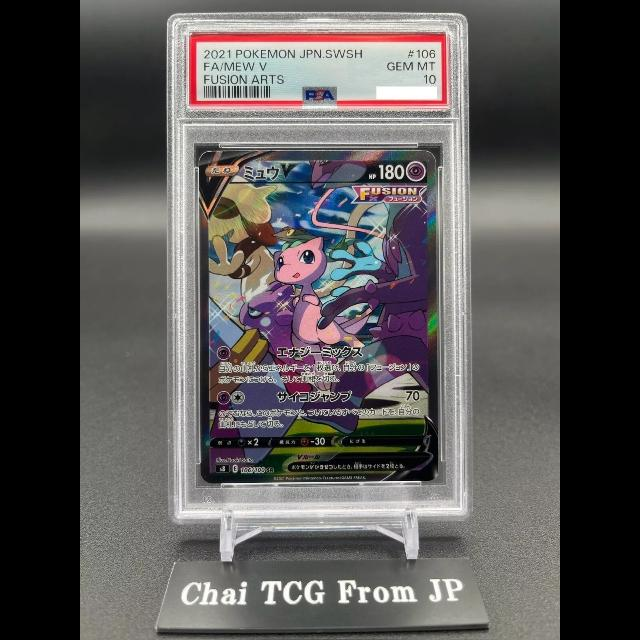card: (199, 149, 438, 482)
psa_label: (189, 33, 447, 107)
psa_slab: (168, 13, 473, 523)
